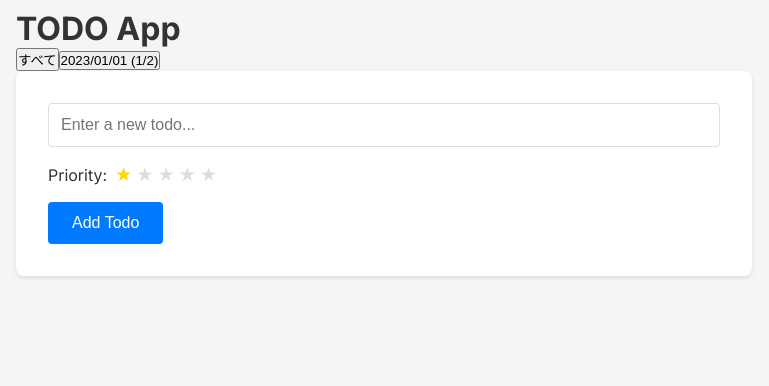
Test: Todo App › filters todos by date when date tab is clicked
Click the button "2023/01/01 (1/2)".
click(109, 60)  # box [58,51,160,70]
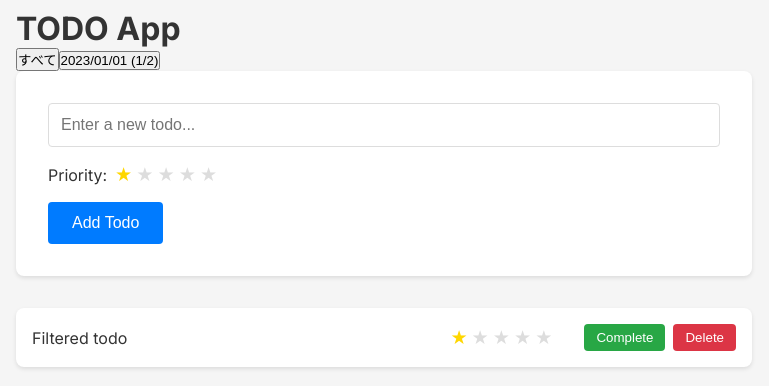
Result: the text "Filtered todo" is shown at [32,328,127,348]
